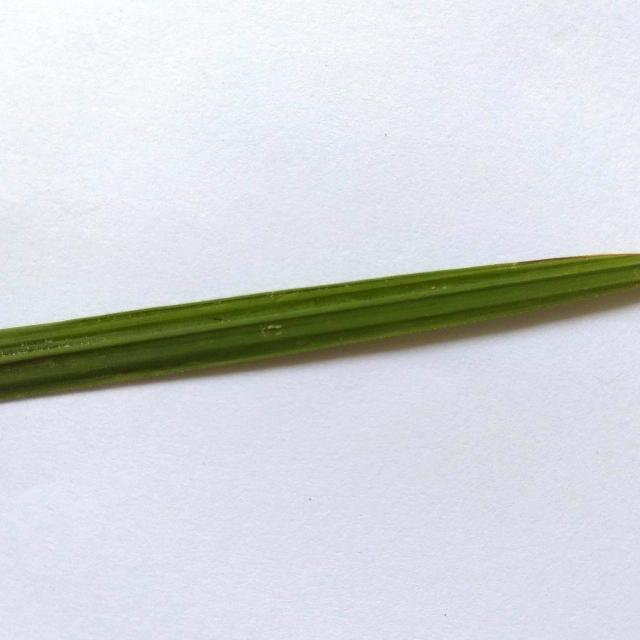healthy: (1, 236, 640, 410)
